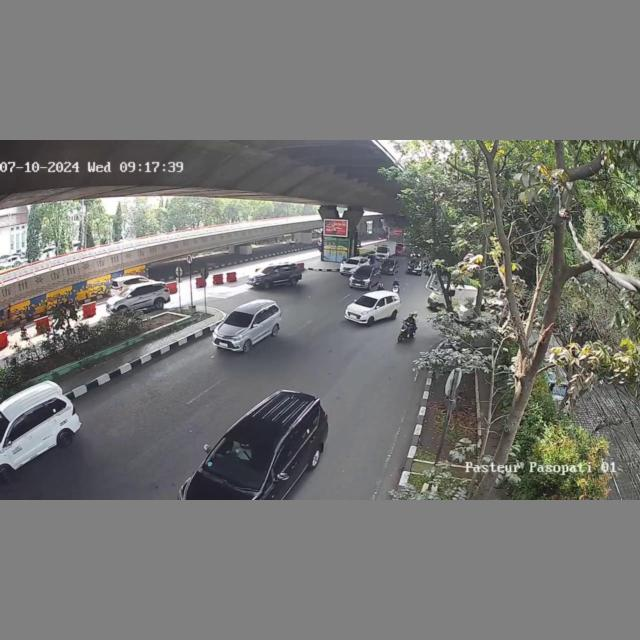windshield: (210, 434, 276, 488), (222, 310, 256, 329), (353, 294, 377, 310)
